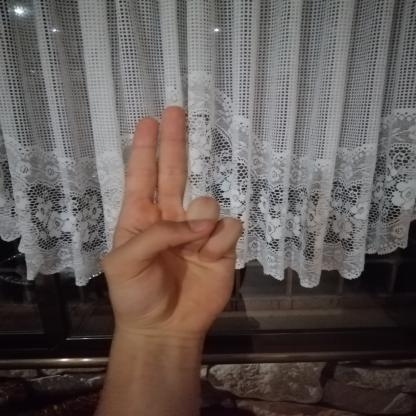TA: (90, 92, 258, 344)
